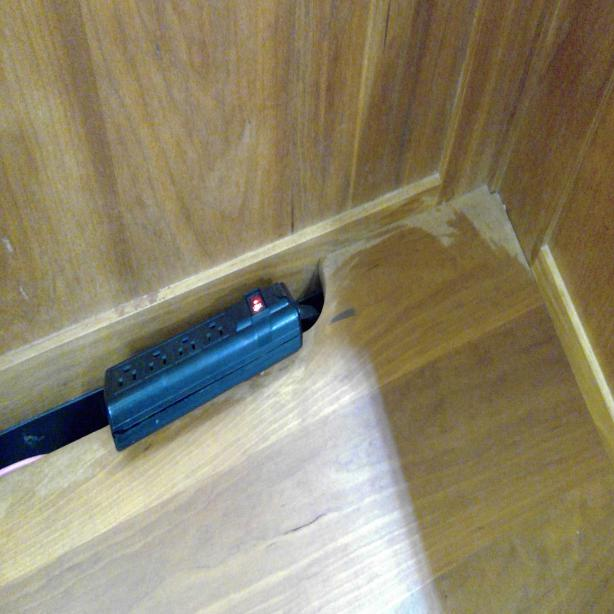typeb: (174, 332, 199, 366), (144, 349, 170, 378), (202, 318, 227, 346), (116, 361, 139, 389)
